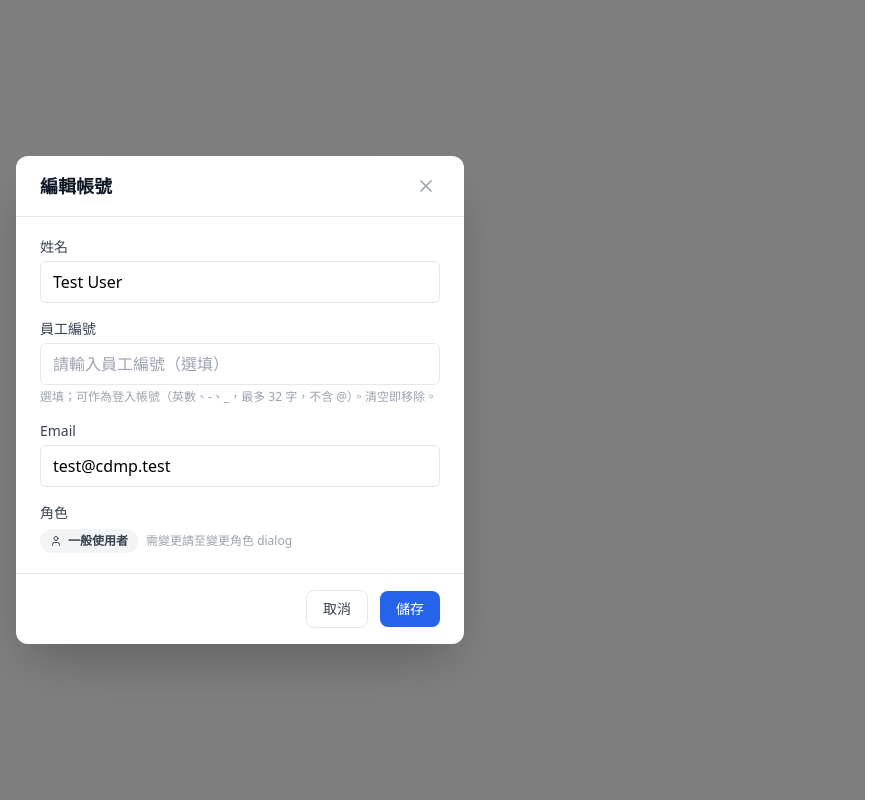
it: EditAccountModal › 前端欄位驗證 › Email 格式錯誤顯示錯誤
Replace the text in the field labelled "Email" with "not-valid": [240, 466] box [40,445,440,487]
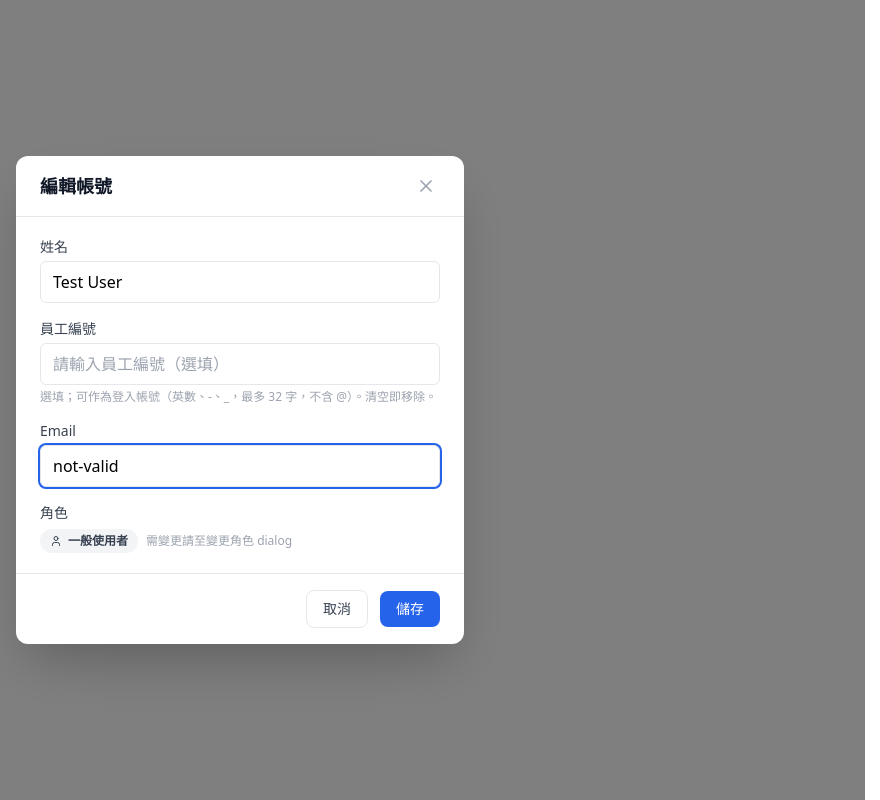
Click the button "儲存": [410, 609] box [380,591,440,627]
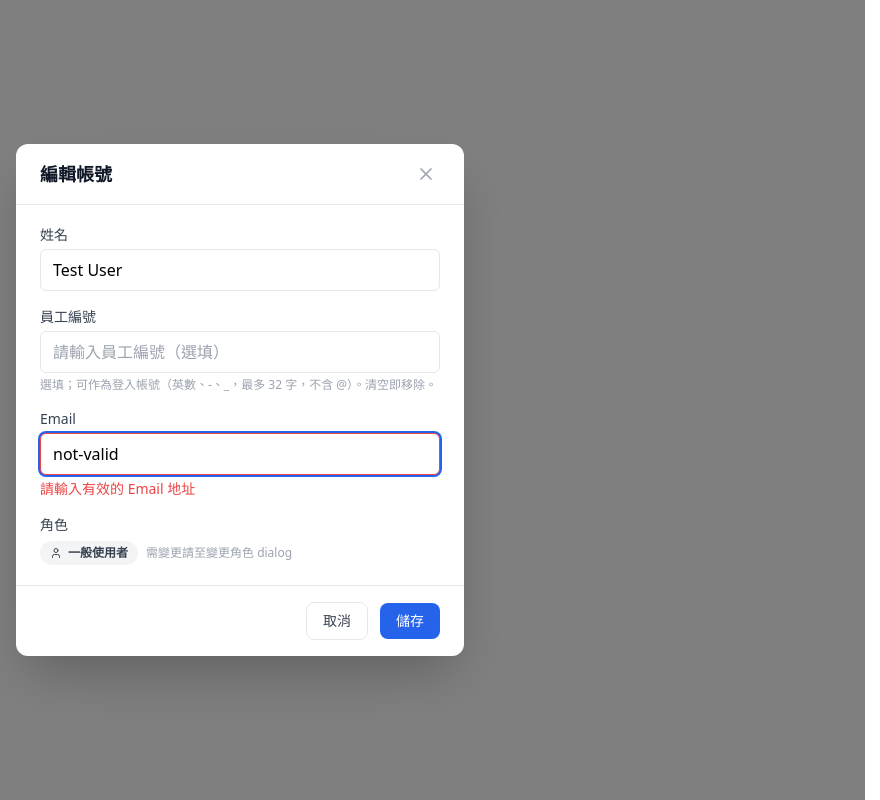
Now the text "請輸入有效的 Email 地址" is shown, box [40,479,195,498]
